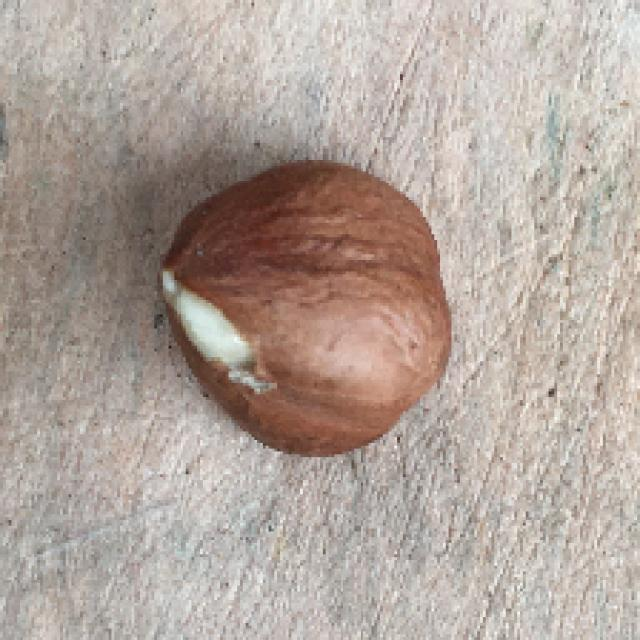hazelnut: (140, 156, 467, 480)
